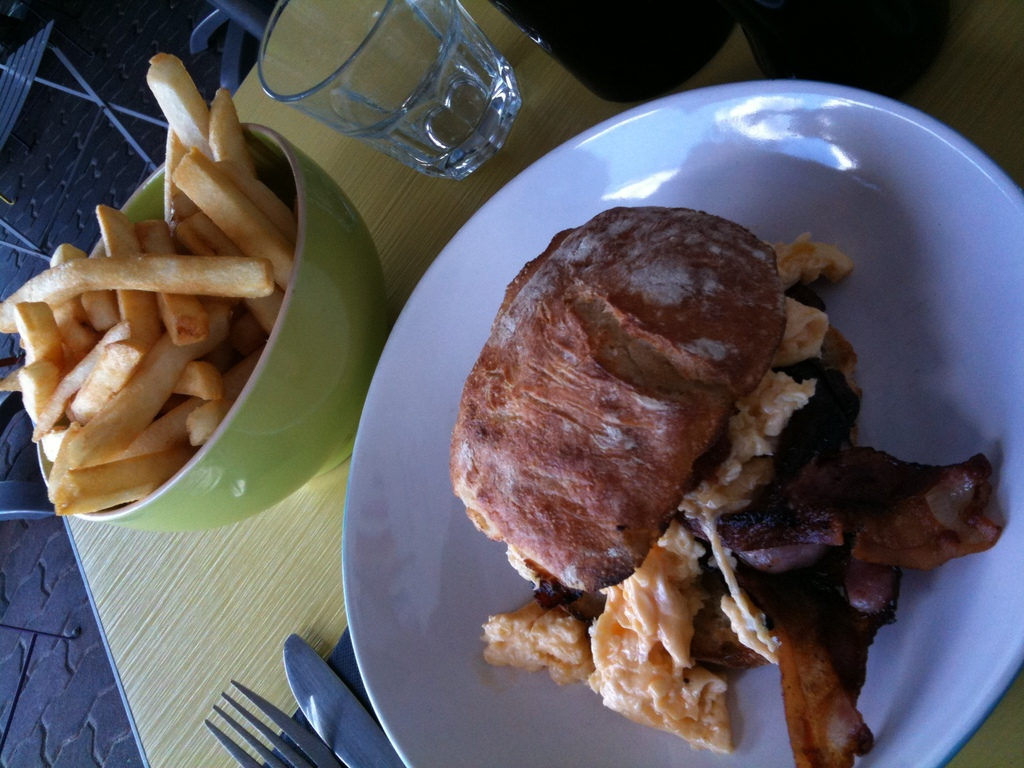French fries: (4, 54, 298, 516)
